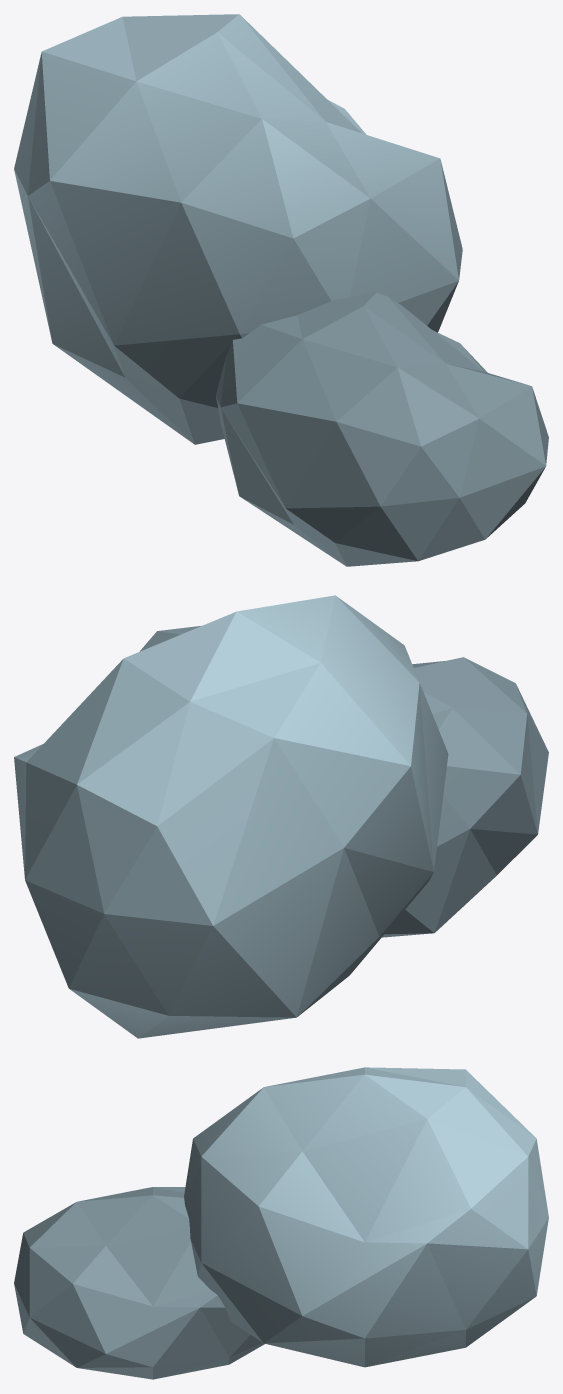
The model's file is SM_Snow_02.fbx.
3 views of the same model, one above another, from view 1: azimuth 30°, elevation 25°; view 2: azimuth 150°, elevation 25°; view 3: azimuth 270°, elevation 25° (orthographic). The views are drawn at different scales.
Parts seen in each view (by area): view 1: SM_Snow_02; view 2: SM_Snow_02; view 3: SM_Snow_02.
Boxes of the visible parts, x1,y1,x2,y2 form: SM_Snow_02: (14,14,548,566); SM_Snow_02: (14,595,548,1038); SM_Snow_02: (14,1067,548,1379).
Size of the model in its own units: 240 by 243 by 416.
